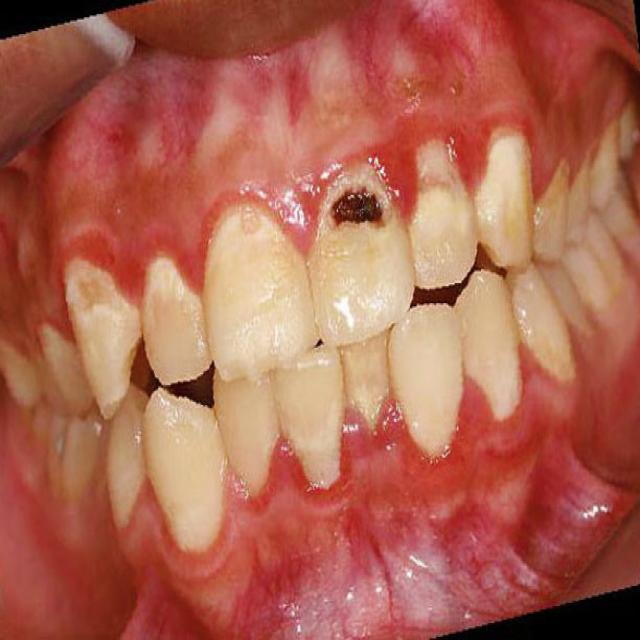caries: (328, 187, 382, 237)
